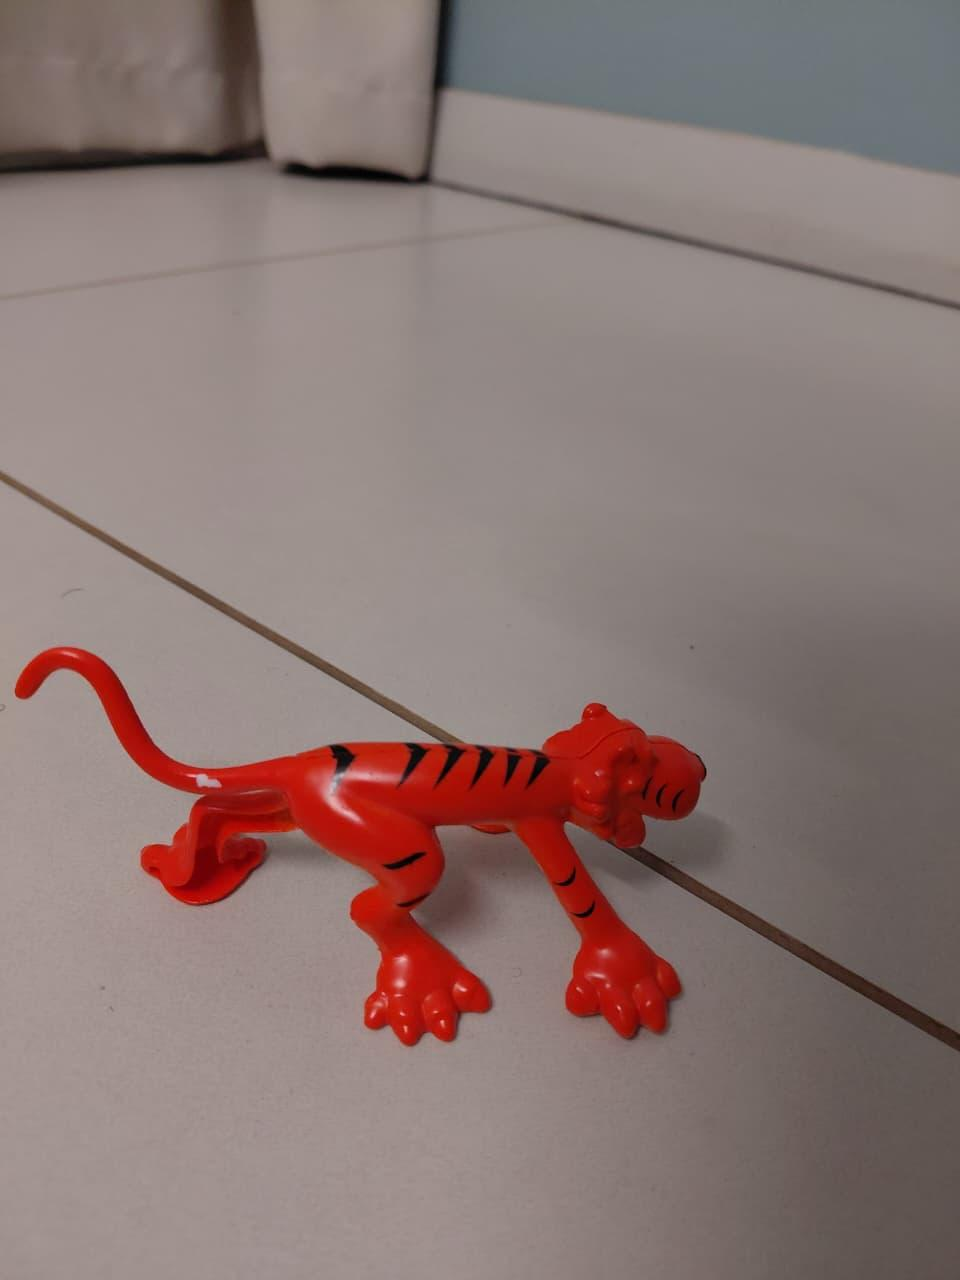tiger: (15, 588, 750, 1099)
